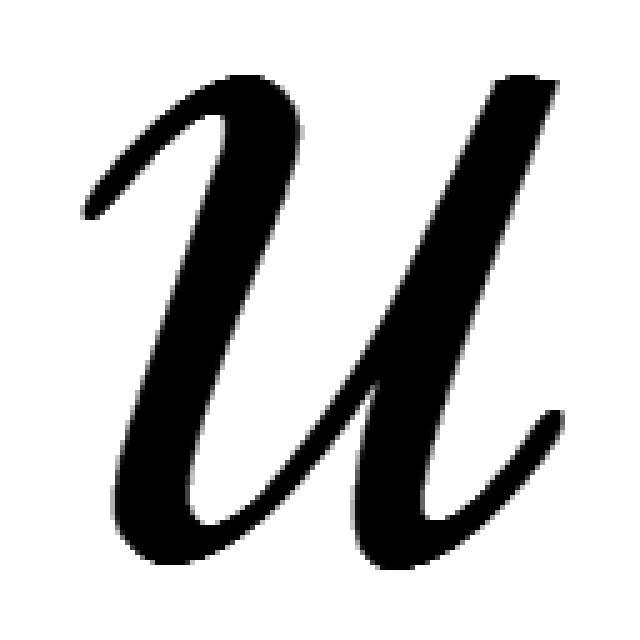U: (75, 65, 570, 575)
